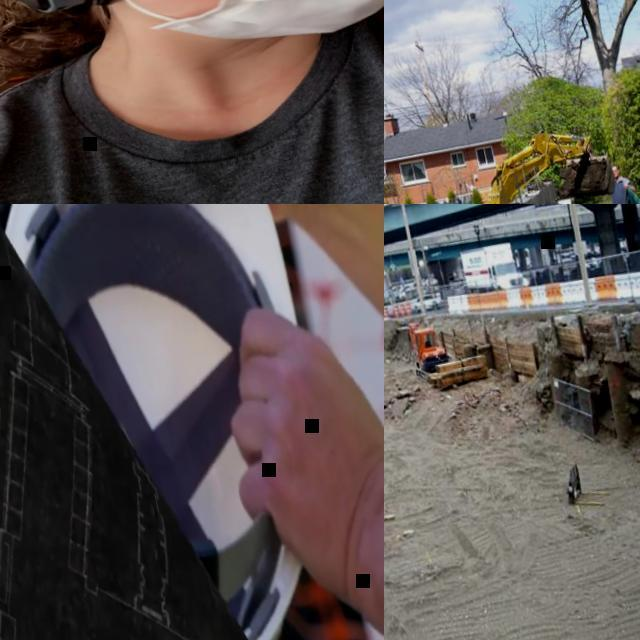helmet: (0, 204, 360, 640)
